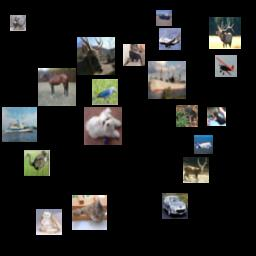airplane: (215, 55, 237, 77), (159, 28, 181, 50), (194, 135, 213, 154)
automobile: (162, 193, 188, 219), (156, 10, 172, 26)
bird: (24, 150, 50, 176), (92, 79, 118, 105)
cat: (72, 195, 107, 230), (36, 209, 62, 235), (123, 44, 145, 66), (10, 15, 26, 31)
deer: (77, 37, 115, 75), (209, 17, 241, 49), (183, 157, 209, 183)
dog: (84, 107, 122, 145), (207, 107, 226, 126)
frog: (176, 105, 198, 127)
ship: (148, 61, 186, 99), (2, 107, 37, 142)
